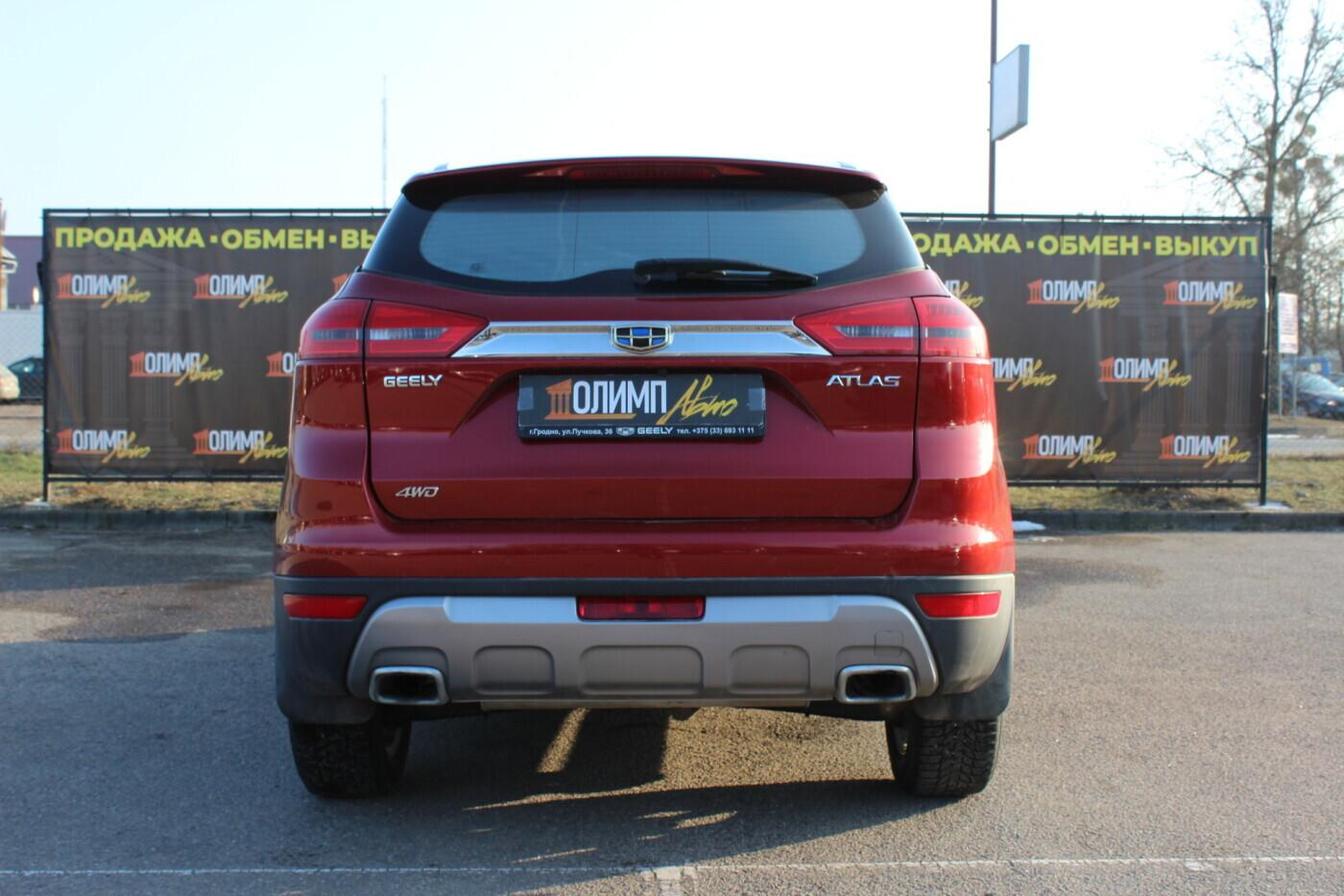Atlas_2016-2023: (266, 150, 1014, 811)
